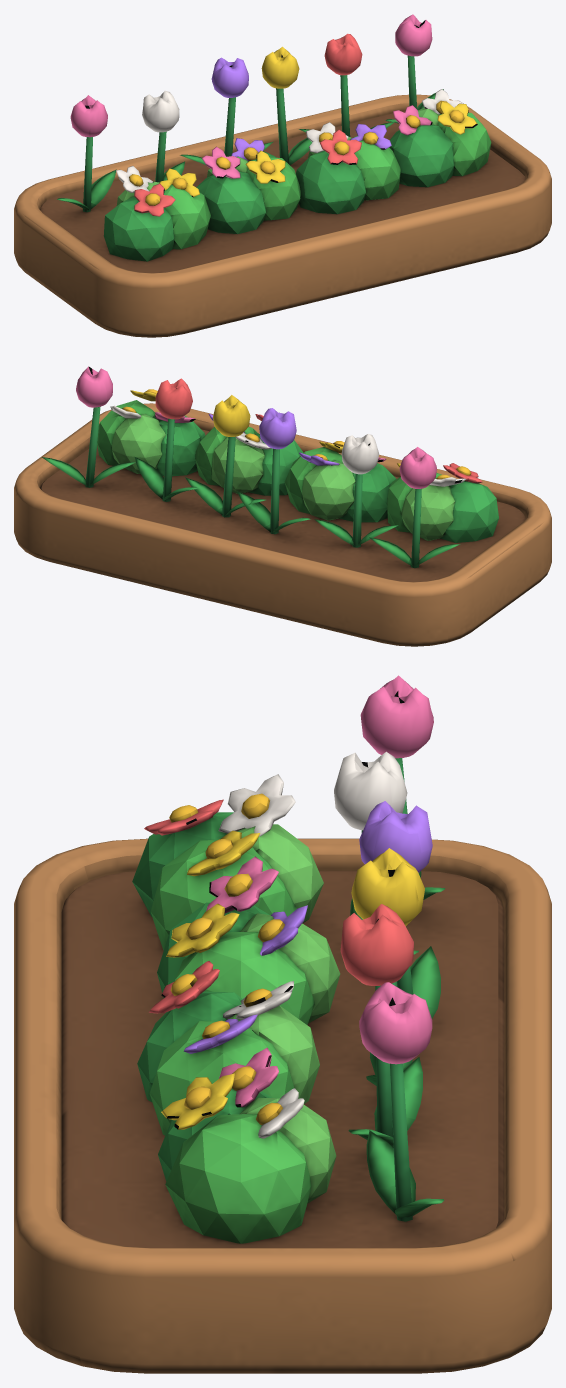
File: flower_bed.glb
3 renders of one model, top to bottom at view 1: azimuth 30°, elevation 25°; view 2: azimuth 150°, elevation 25°; view 3: azimuth 270°, elevation 25°, orthographic. The views are drawn at different scales.
Visible parts, largest first — view 1: flower_bed; view 2: flower_bed; view 3: flower_bed.
Part boxes in pixels (x1=…): flower_bed: x1=14, y1=14, x2=551, y2=337; flower_bed: x1=14, y1=366, x2=551, y2=646; flower_bed: x1=14, y1=675, x2=551, y2=1373.
Bounding box in the file's own units: 1.7 × 0.6229 × 0.9.
13 materials, 13 textured.
